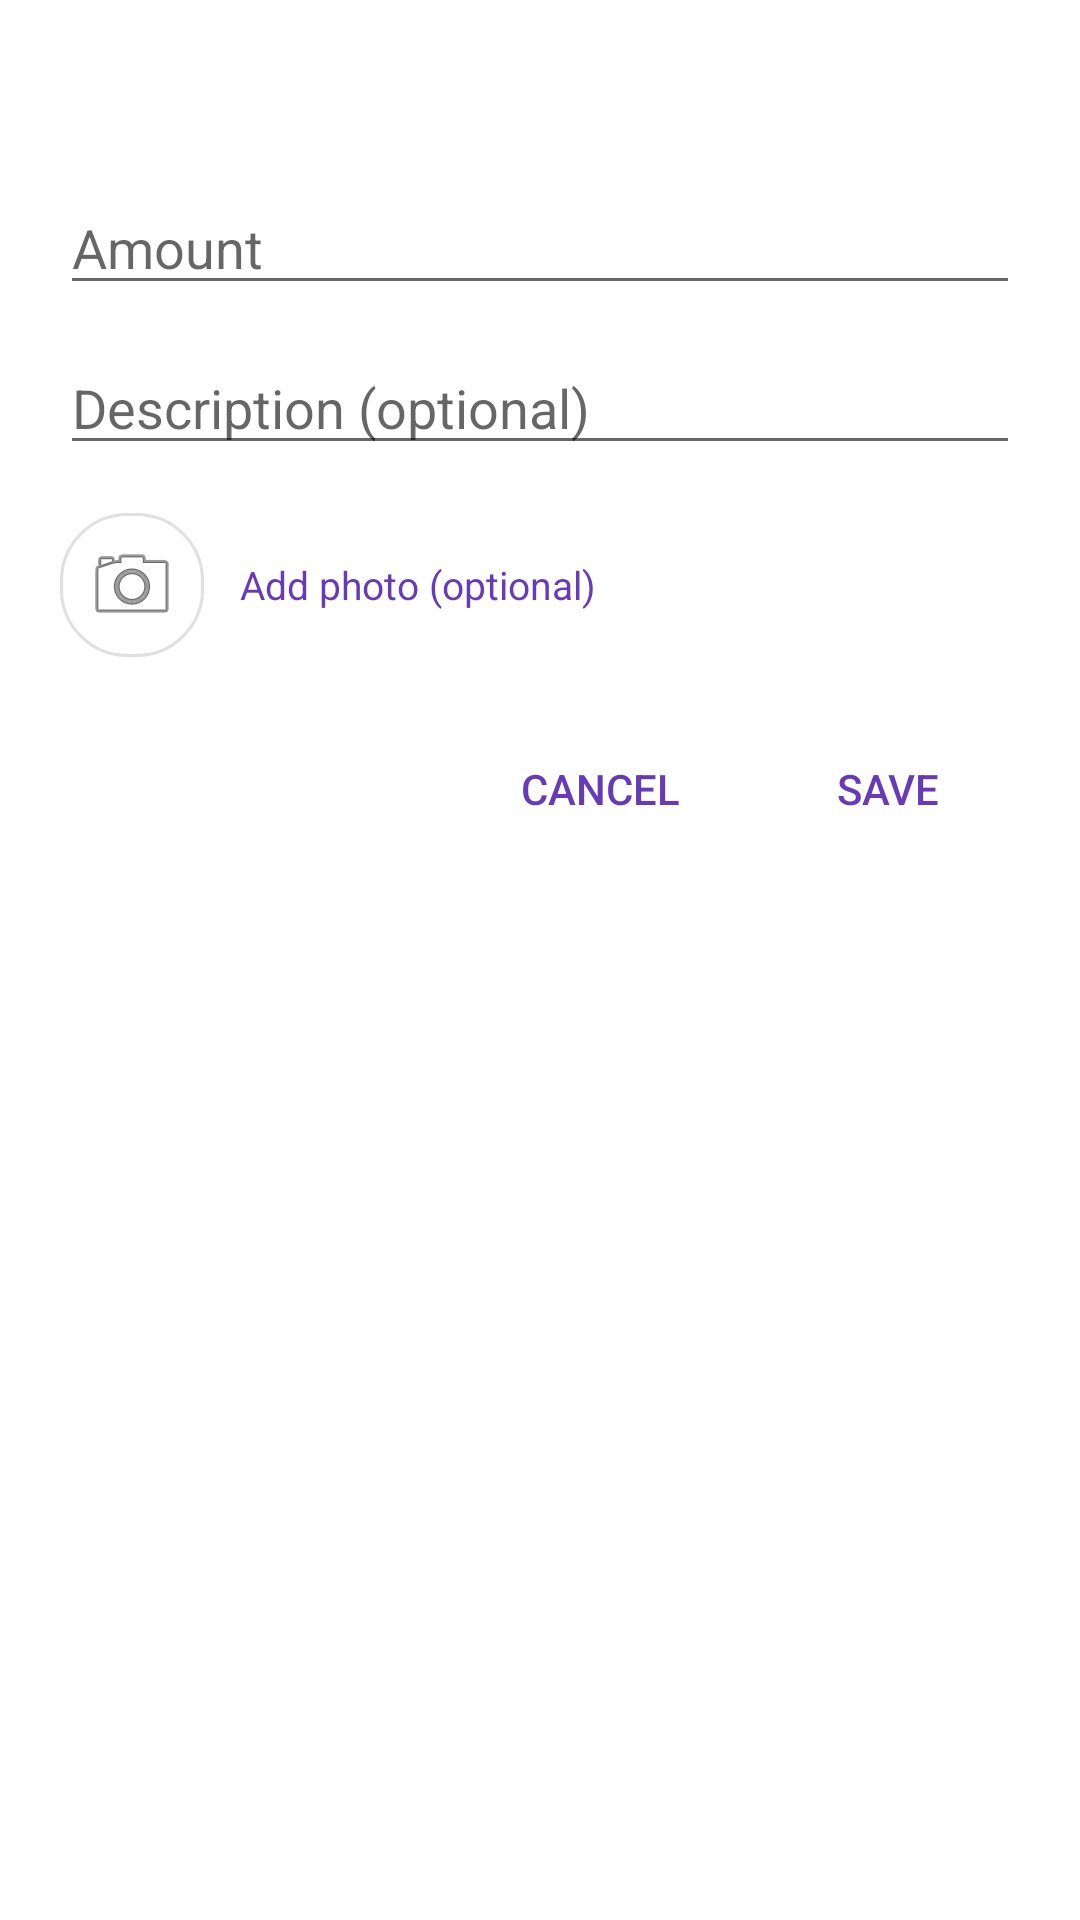

Point at icon controls on the screen. Image size 1080 x 1920, points as (x,y).
camera: (132,585)
